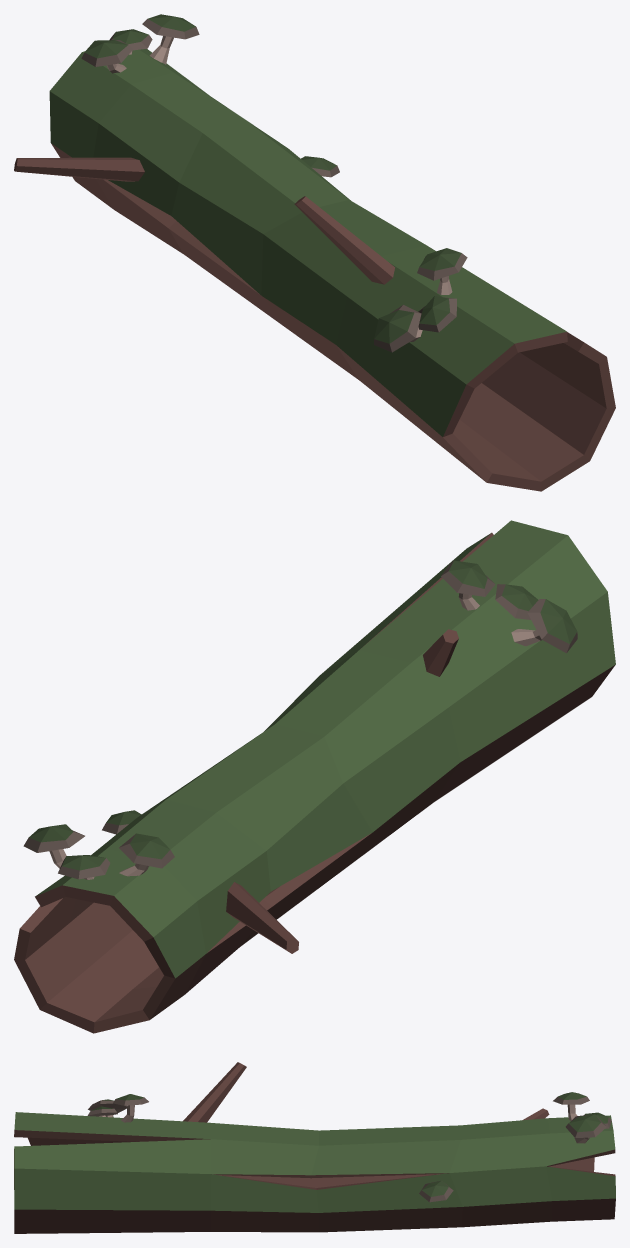
3 renders of one model, top to bottom at view 1: azimuth 30°, elevation 25°; view 2: azimuth 150°, elevation 25°; view 3: azimuth 270°, elevation 25°, orthographic. The views are drawn at different scales.
Parts seen in each view (by area): view 1: WoodLog_Moss; view 2: WoodLog_Moss; view 3: WoodLog_Moss.
Boxes of the visible parts, left/top/right/bottom form: WoodLog_Moss: left=14, top=14, right=615, bottom=491; WoodLog_Moss: left=14, top=520, right=615, bottom=1033; WoodLog_Moss: left=14, top=1062, right=615, bottom=1233.
Size of the model in its own units: 0.8966 by 0.6883 by 2.67.
